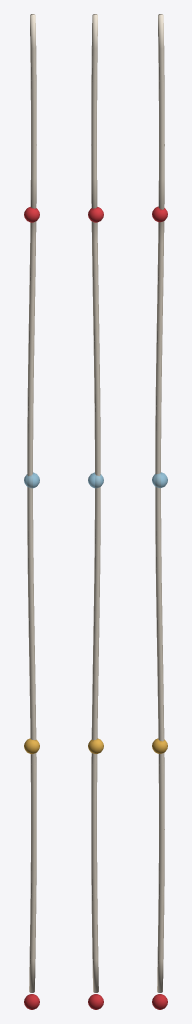
Rendered from frost_mobile_string.glb.
3 views of the same model, side by side, from view 1: azimuth 30°, elevation 25°; view 2: azimuth 150°, elevation 25°; view 3: azimuth 330°, elevation 25° (orthographic).
Parts seen in each view (by area): view 1: frost_mobile_string; view 2: frost_mobile_string; view 3: frost_mobile_string.
Boxes of the visible parts, x1=… form: frost_mobile_string: x1=24, y1=14, x2=39, y2=1009; frost_mobile_string: x1=88, y1=14, x2=103, y2=1009; frost_mobile_string: x1=152, y1=14, x2=167, y2=1009.
Bounding box in the file's own units: 0.4412 × 30 × 0.4412.
